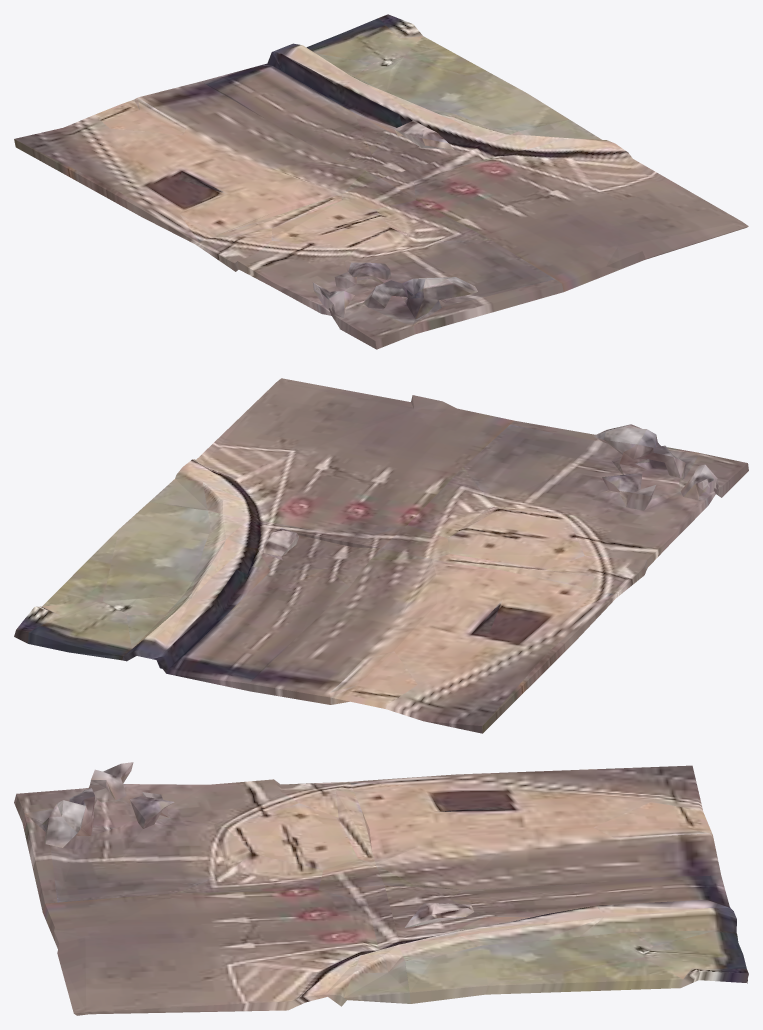
The picture shows the model from 3 angles, top to bottom: view 1: azimuth 30°, elevation 25°; view 2: azimuth 150°, elevation 25°; view 3: azimuth 270°, elevation 25°; orthographic projection. The views are drawn at different scales.
Visible parts, largest first — view 1: Mesh_0; view 2: Mesh_0; view 3: Mesh_0.
Boxes of the visible parts, box(x1,y1,x2,y2) form: Mesh_0: box(14, 14, 748, 349); Mesh_0: box(14, 378, 748, 733); Mesh_0: box(14, 762, 748, 1015).
Bounding box in the file's own units: 33.31 × 2.88 × 41.22.
Materials: 1 (1 with a texture image).
